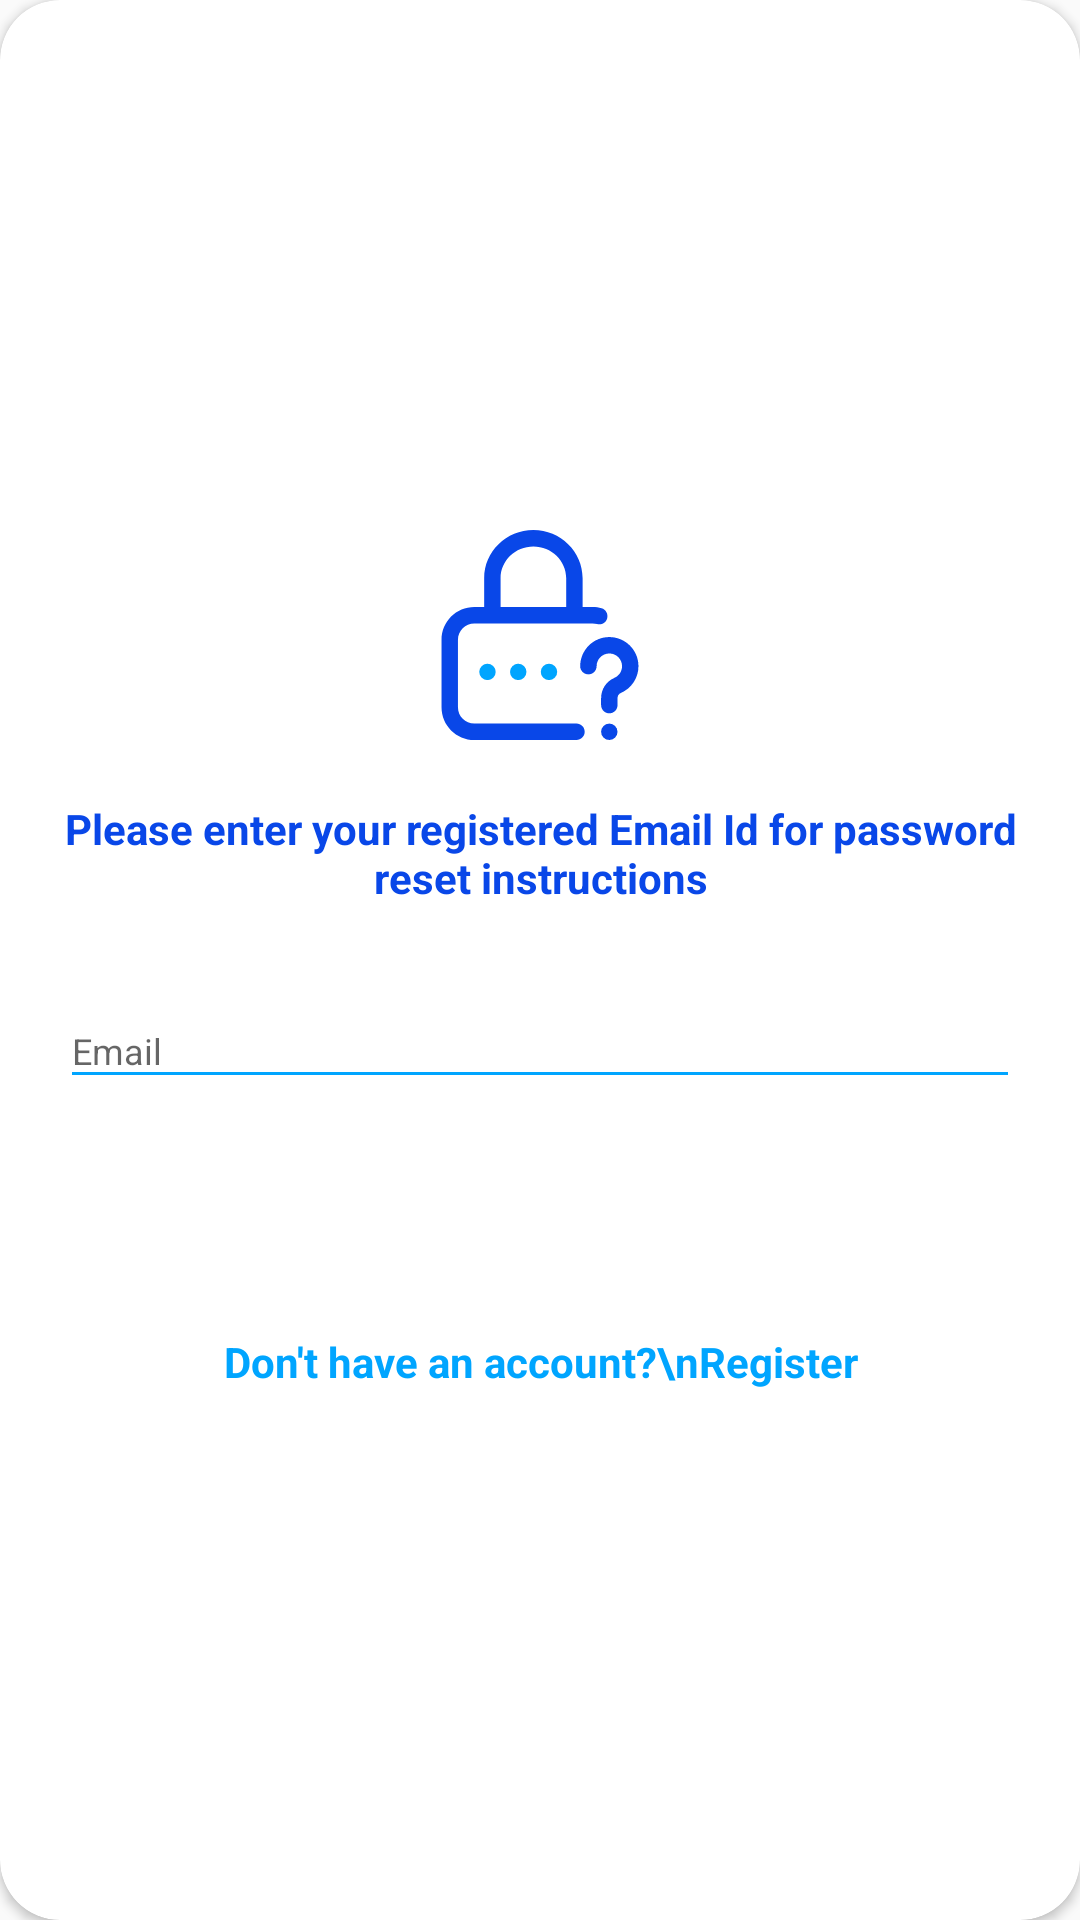

Icon click points for this 1080px×1920px phone screenshot, format (x,y):
forgot password: (540,635)
